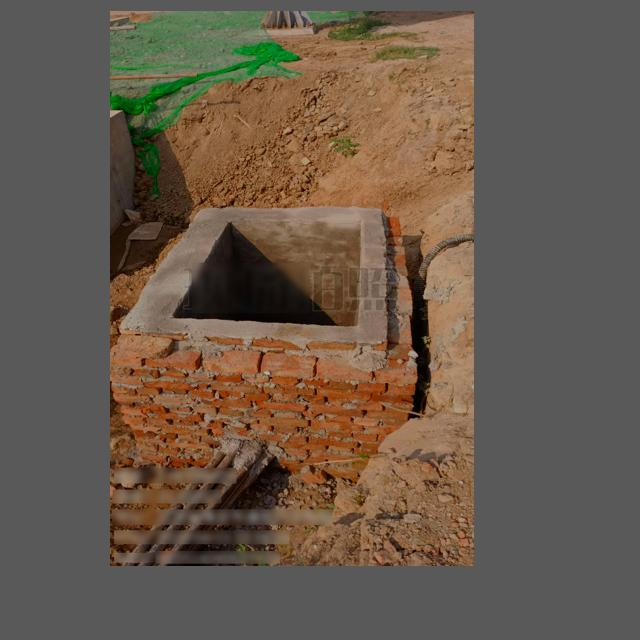lose: (120, 208, 388, 343)
